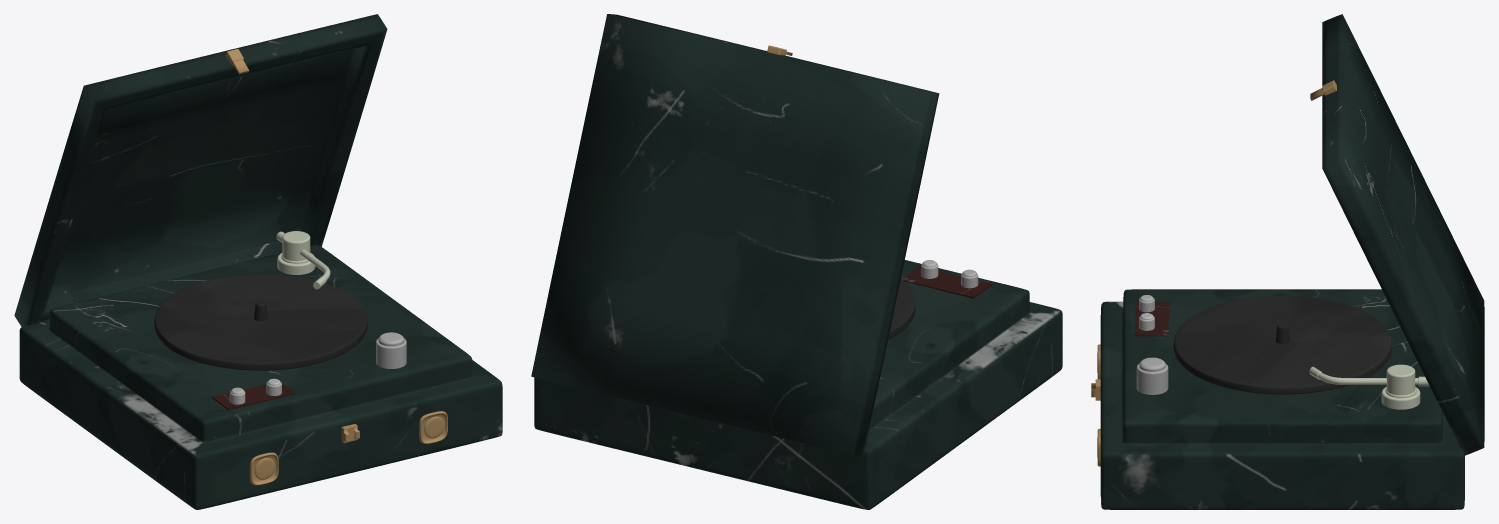
Rendered from record player.fbx.
The picture shows the model from 3 angles, left to right: view 1: azimuth 30°, elevation 25°; view 2: azimuth 150°, elevation 25°; view 3: azimuth 270°, elevation 25°; orthographic projection. The views are drawn at different scales.
Visible parts, largest first — view 1: recordplayer_BAKED; view 2: recordplayer_BAKED; view 3: recordplayer_BAKED.
Boxes of the visible parts, x1=… form: recordplayer_BAKED: x1=14, y1=14, x2=502, y2=509; recordplayer_BAKED: x1=531, y1=14, x2=1062, y2=509; recordplayer_BAKED: x1=1091, y1=14, x2=1484, y2=509.
Size of the model in its own units: 202 by 214 by 218.
